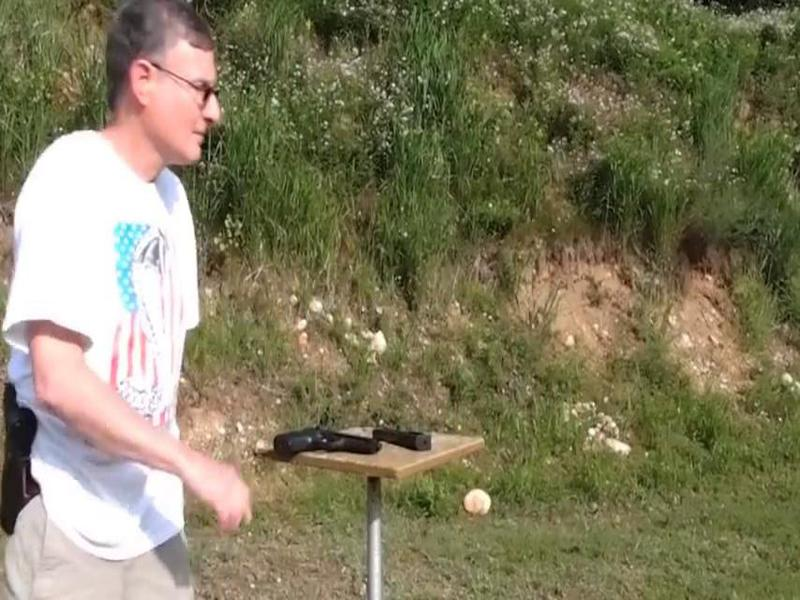Pistola: (250, 397, 395, 496)
